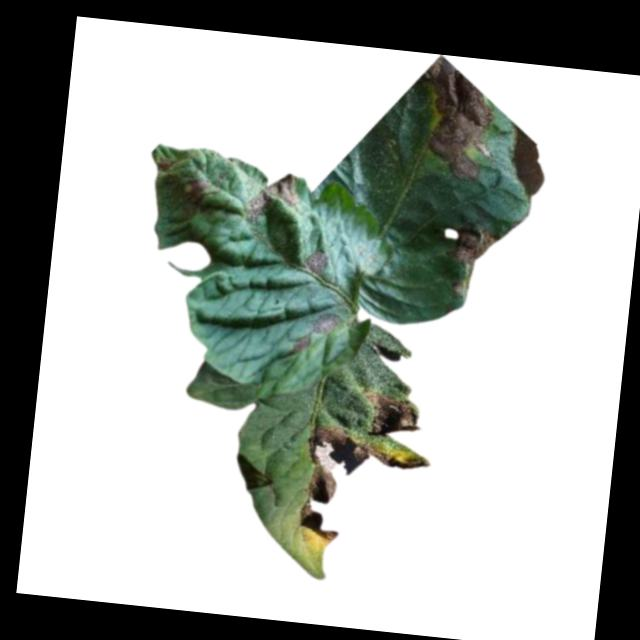Early_blight: (290, 424, 432, 562), (415, 53, 500, 185), (358, 387, 424, 441), (246, 169, 304, 225), (446, 222, 501, 274), (290, 310, 343, 358), (175, 173, 211, 206), (303, 250, 329, 279), (155, 157, 173, 174)
